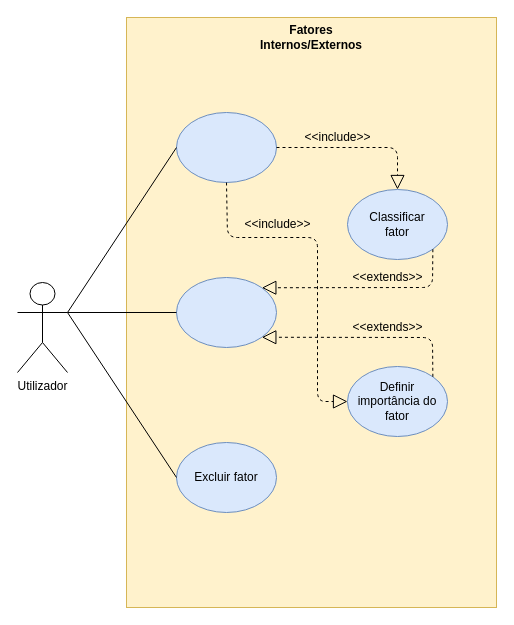
The diagram is 514 pixels wide and 625 high, and some of its shapes have lost their labels. The box of each missing label's shape, as (x1, y1, x2, y2) in pixels:
Criar fator: (176, 112, 276, 182)
Editar fator: (176, 276, 276, 348)
